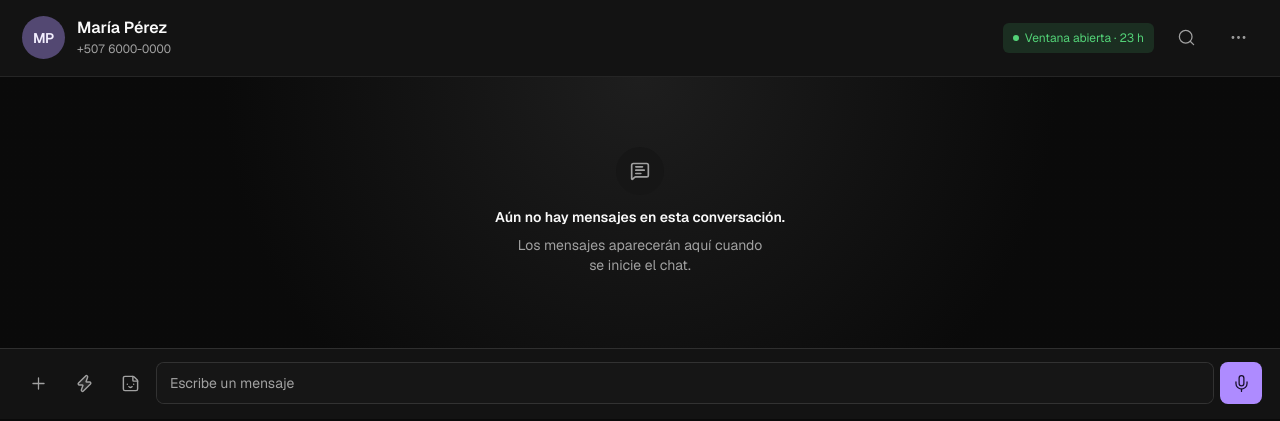
ChatWorkspace › offers saved messages even when the client has no active sale
Click the button named "Respuestas rápidas y acciones" at [84, 383], box [64, 363, 104, 403]
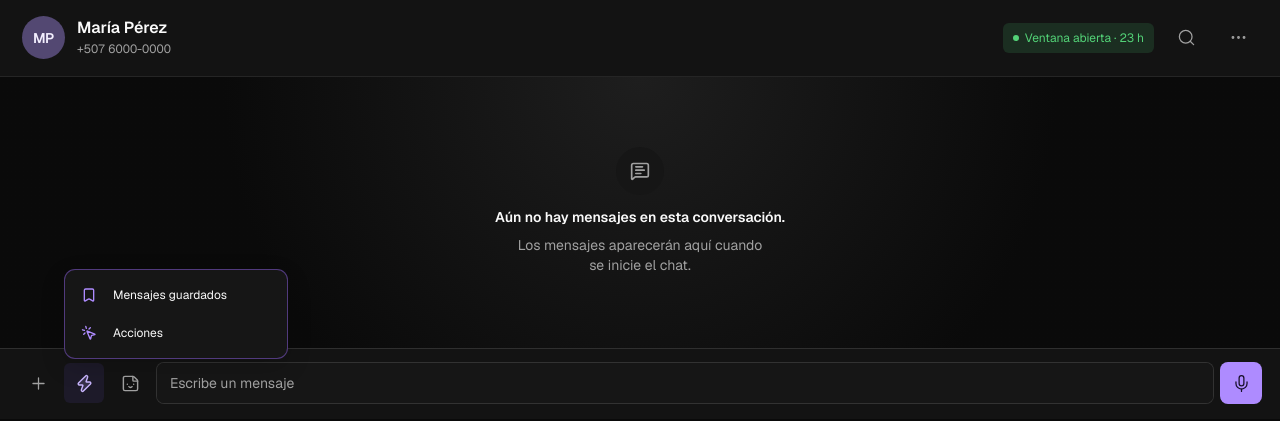
Expected: the menu item "Mensajes guardados" is shown, [81, 287, 227, 303]
